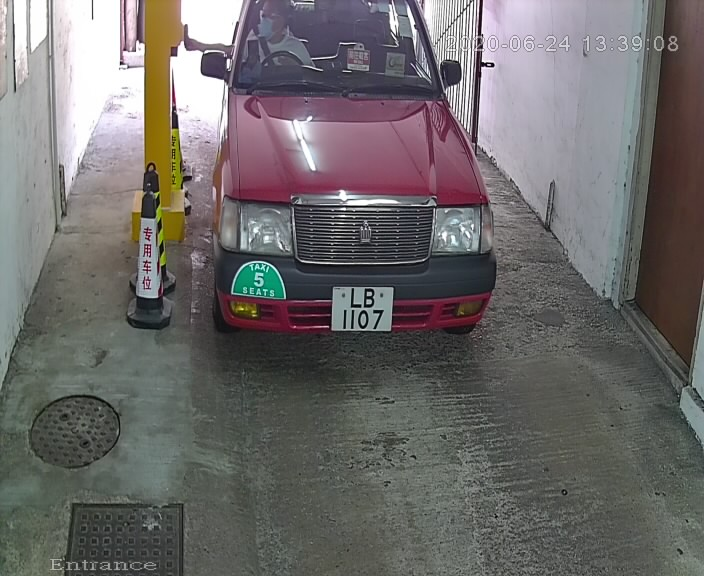Car: (177, 1, 520, 375)
License Plate: (322, 282, 403, 344)
